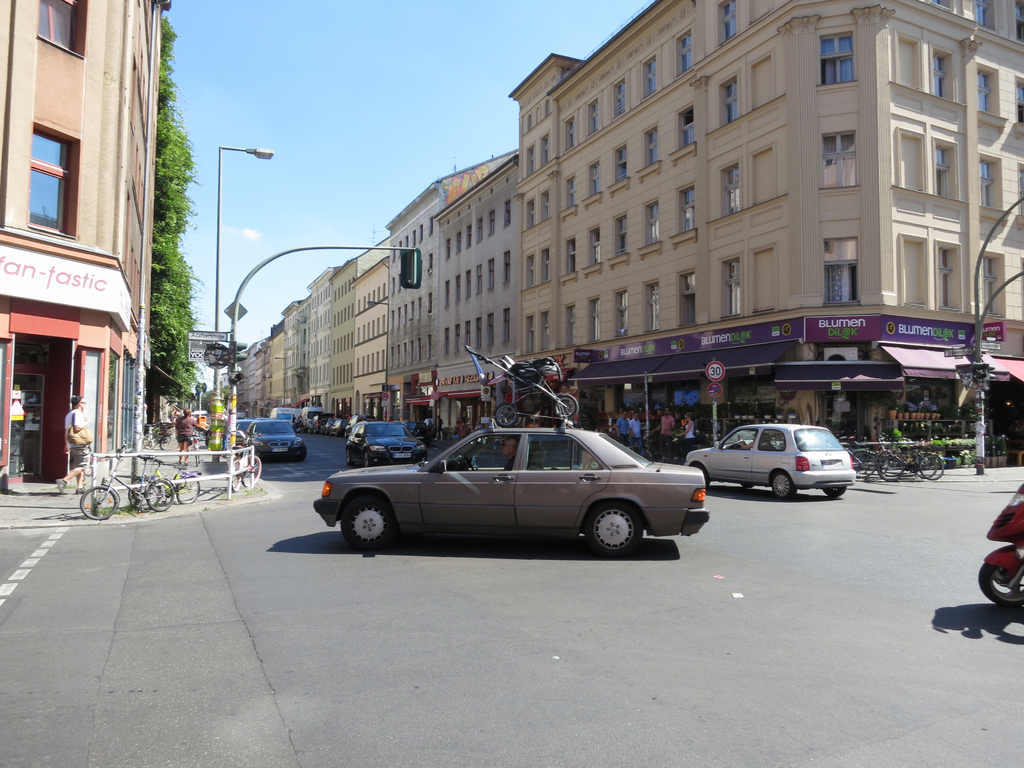Car: (305, 417, 700, 561), (682, 415, 851, 499), (343, 419, 429, 467), (240, 414, 305, 457), (404, 417, 429, 442), (235, 418, 256, 447), (330, 417, 342, 434), (310, 418, 320, 434), (347, 416, 358, 430), (321, 414, 330, 431)
